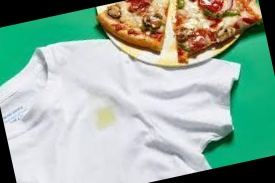oil: (91, 99, 122, 130)
